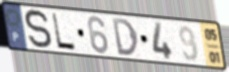4: (152, 20, 175, 62)
6: (86, 14, 110, 56)
9: (178, 24, 200, 63)
D: (111, 17, 140, 58)
L: (50, 11, 79, 52)
S: (23, 8, 54, 51)
